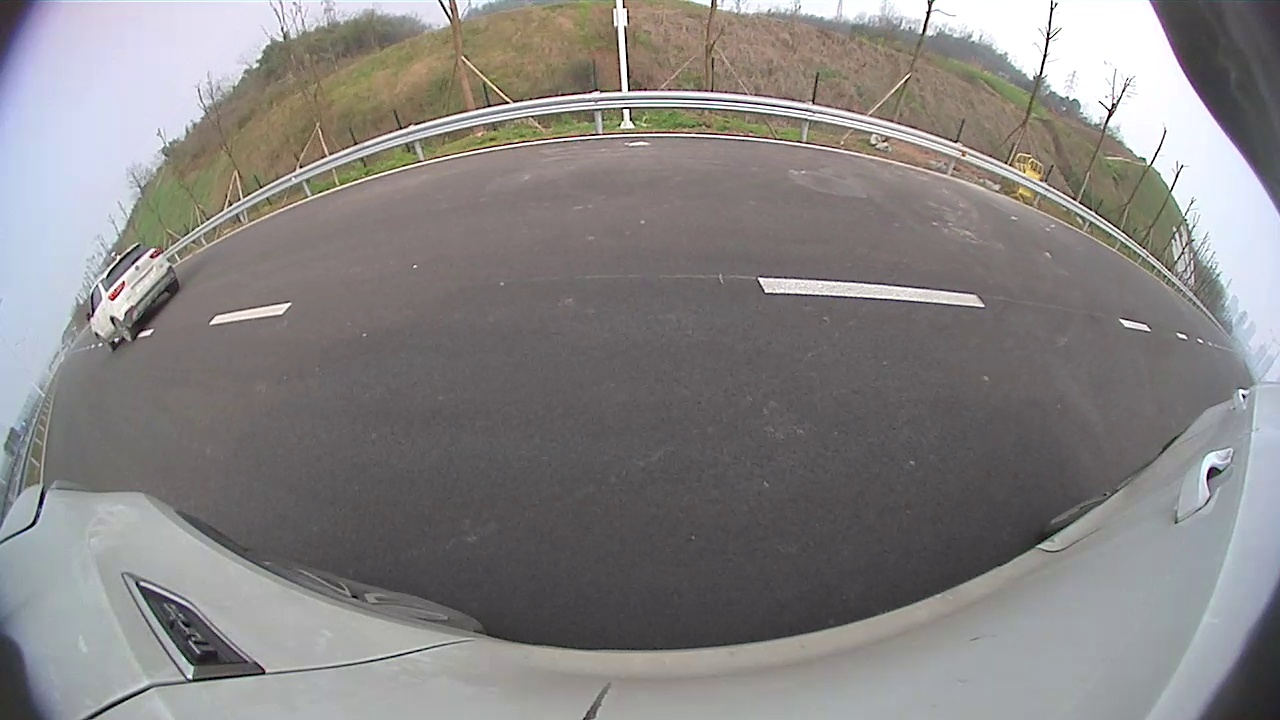car: (88, 243, 180, 352)
rear: (112, 318, 133, 343)
